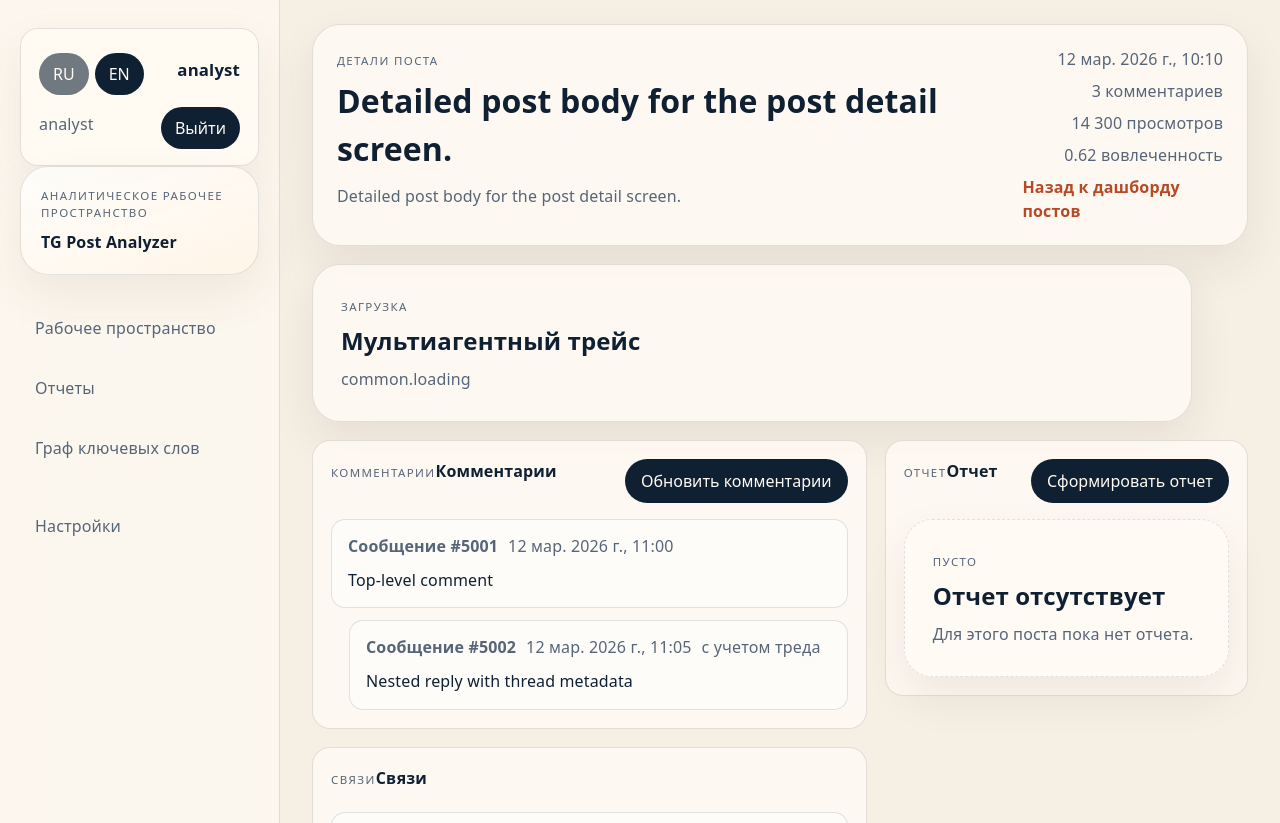
Scenario: Post detail screen › does not open report progress websocket when update endpoint returns blocked response
Click the button "Сформировать отчет" at (1130, 481), box [1031, 459, 1229, 503]
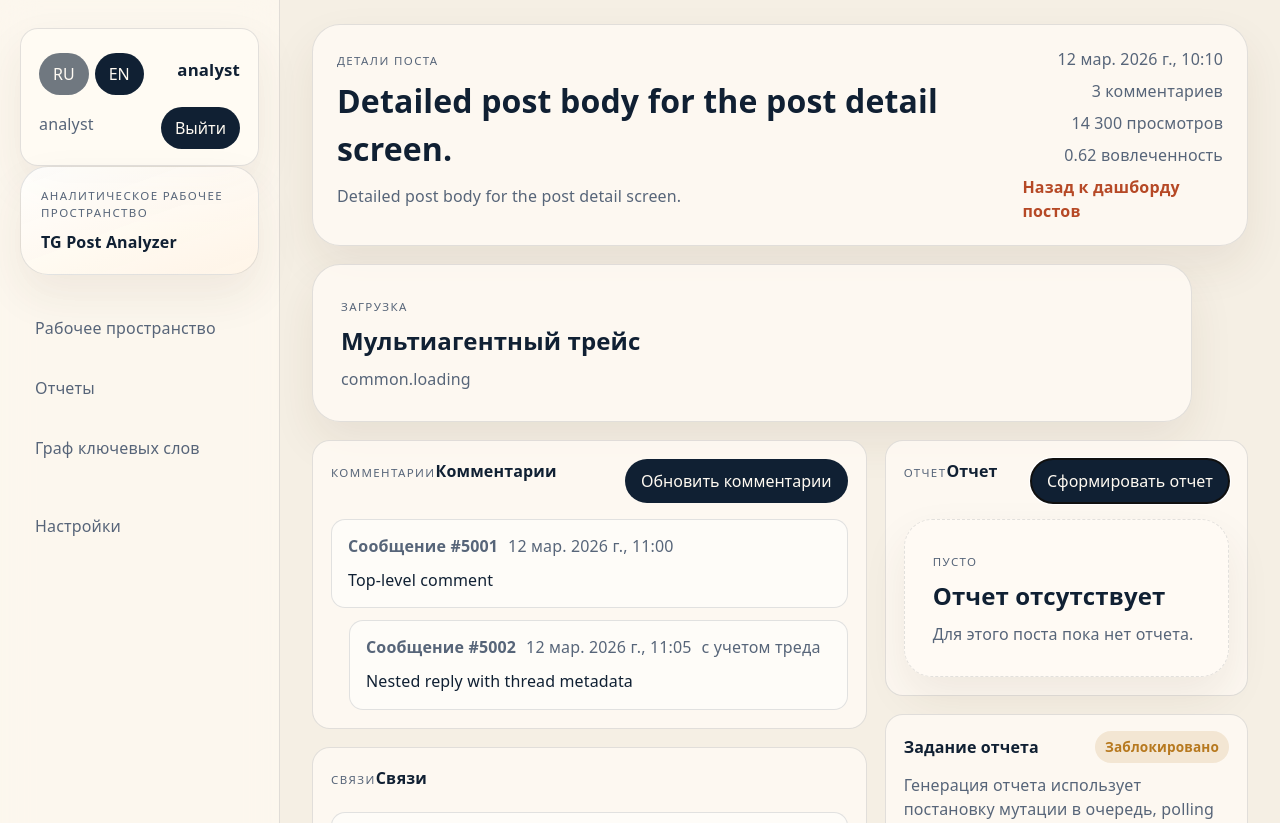
Now the text "Задание отчета" is shown, box [904, 735, 1039, 759]
